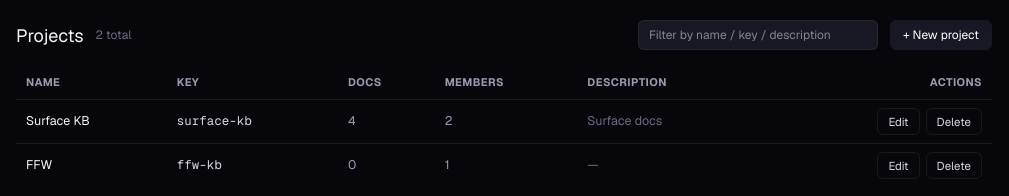
Scenario: ProjectsList › filters rows by free-text across name/key/description
Check: the row with test id "admin-project-row-1" is shown, box top-left (16, 99), bottom-right (992, 143)
In the field with test id "admin-projects-filter": (758, 35) top-left (638, 20), bottom-right (878, 50), type "ffw"
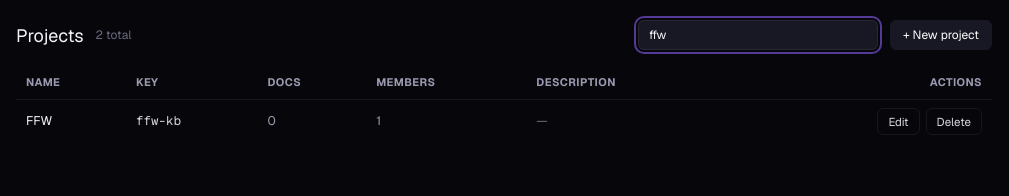
Check: the row with test id "admin-project-row-2" is shown, box top-left (16, 99), bottom-right (992, 143)
Check: the row with test id "admin-project-row-1" is gone
